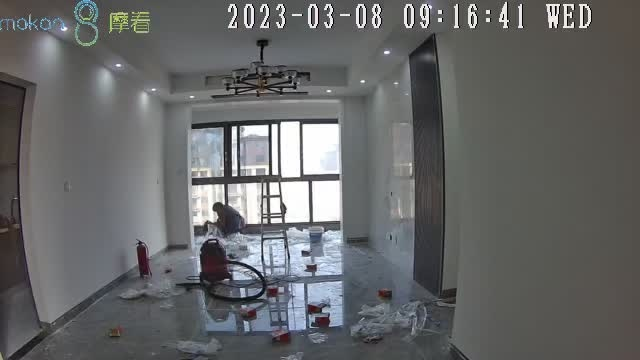people: (211, 201, 246, 235)
window: (191, 121, 343, 226)
